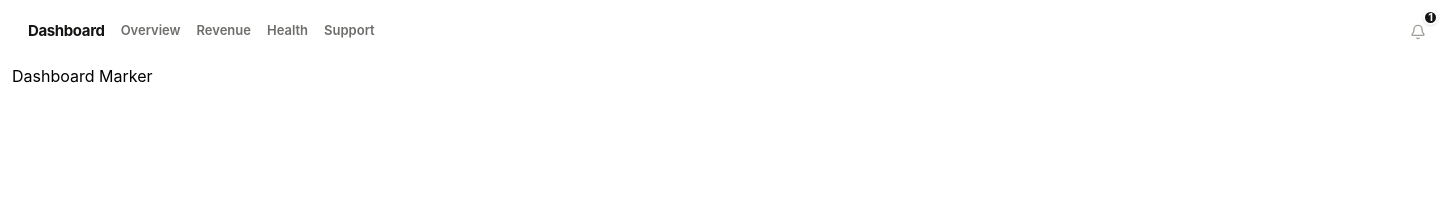
Test case: Navbar notification bell › opens Recommended from a recommendations_waiting notification, with its icon, as an ordinary link
Click the button named "Notifications": [1418, 32] box [1400,14,1436,50]
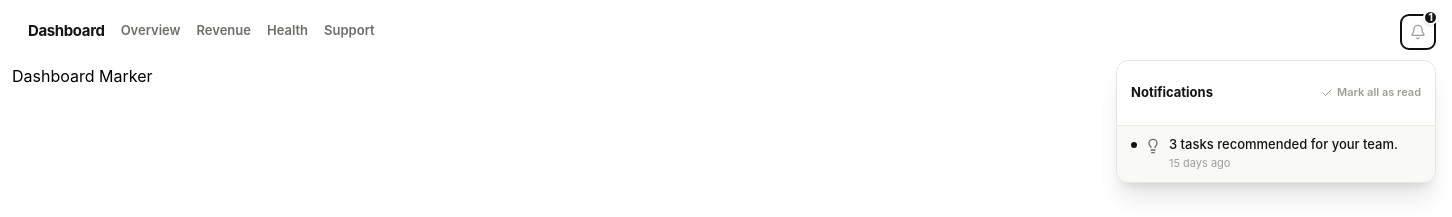
Click the text "3 tasks recommended for your team.": [1284, 144] box [1169,136,1398,153]
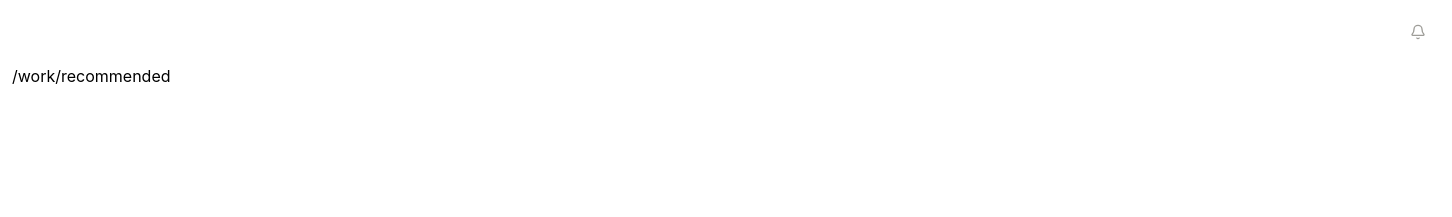
Expected: the text with test id "segment-marker" does not show "opened-here", [12,66,170,86]
Expected: the text with test id "segment-marker" reads "/work/recommended", [12,66,170,86]
